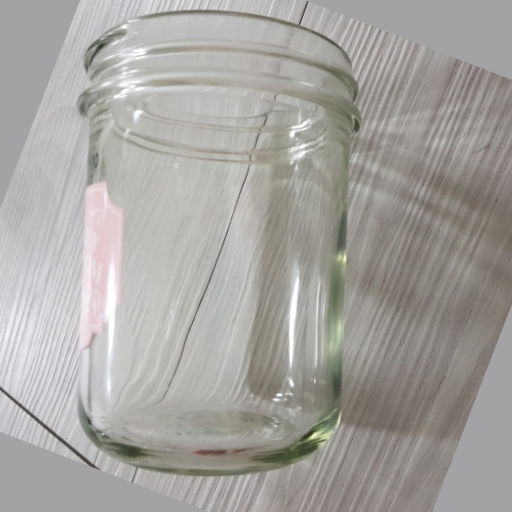Glass_5: (75, 10, 363, 473)
